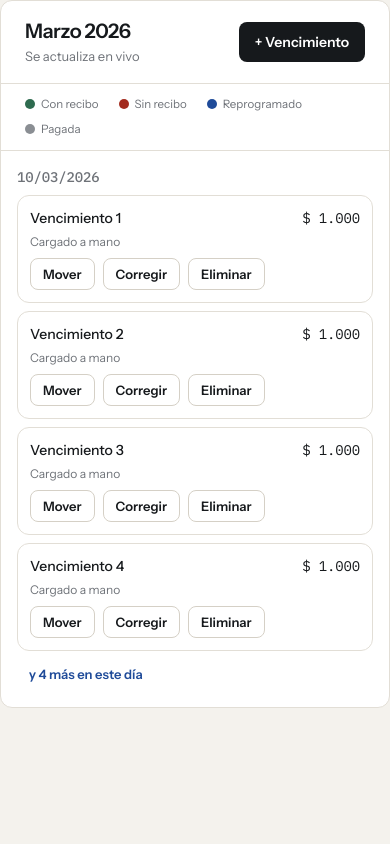
it: el recorte por día › pedirlo abre el día entero, y volver a pedirlo lo cierra
Click the button "y 4 más en este día": (86, 675) left=17, top=659, right=155, bottom=691
(page scrolled)
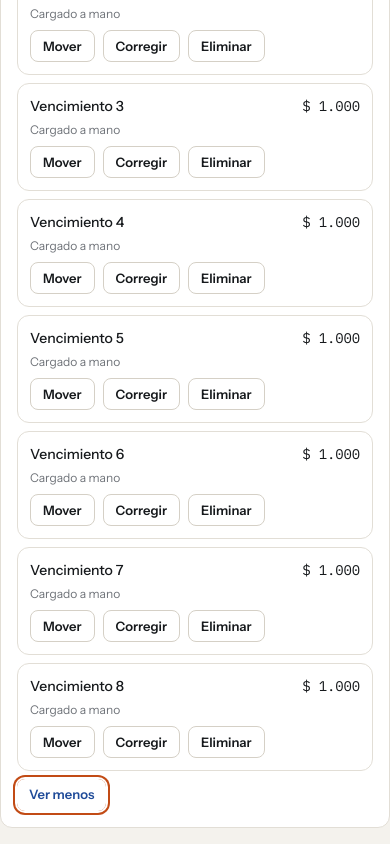
Click the button "Ver menos": (62, 795) left=17, top=779, right=106, bottom=811
(page scrolled)
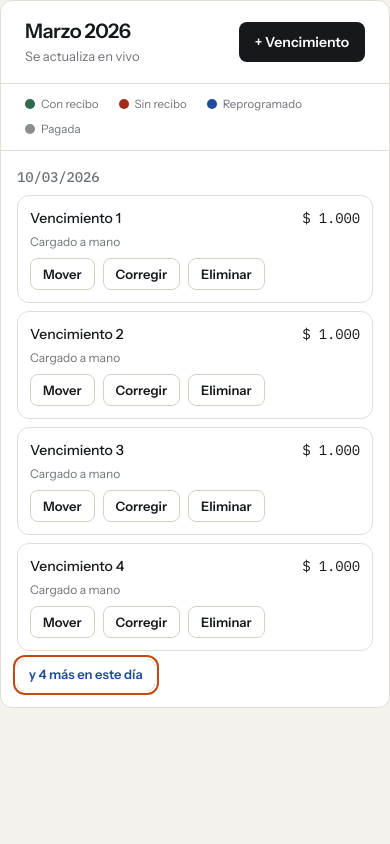
Now the text "Vencimiento 1" is shown 4 times, box left=30, top=208, right=121, bottom=228; left=30, top=324, right=123, bottom=344; left=30, top=440, right=124, bottom=460; left=30, top=556, right=124, bottom=576
